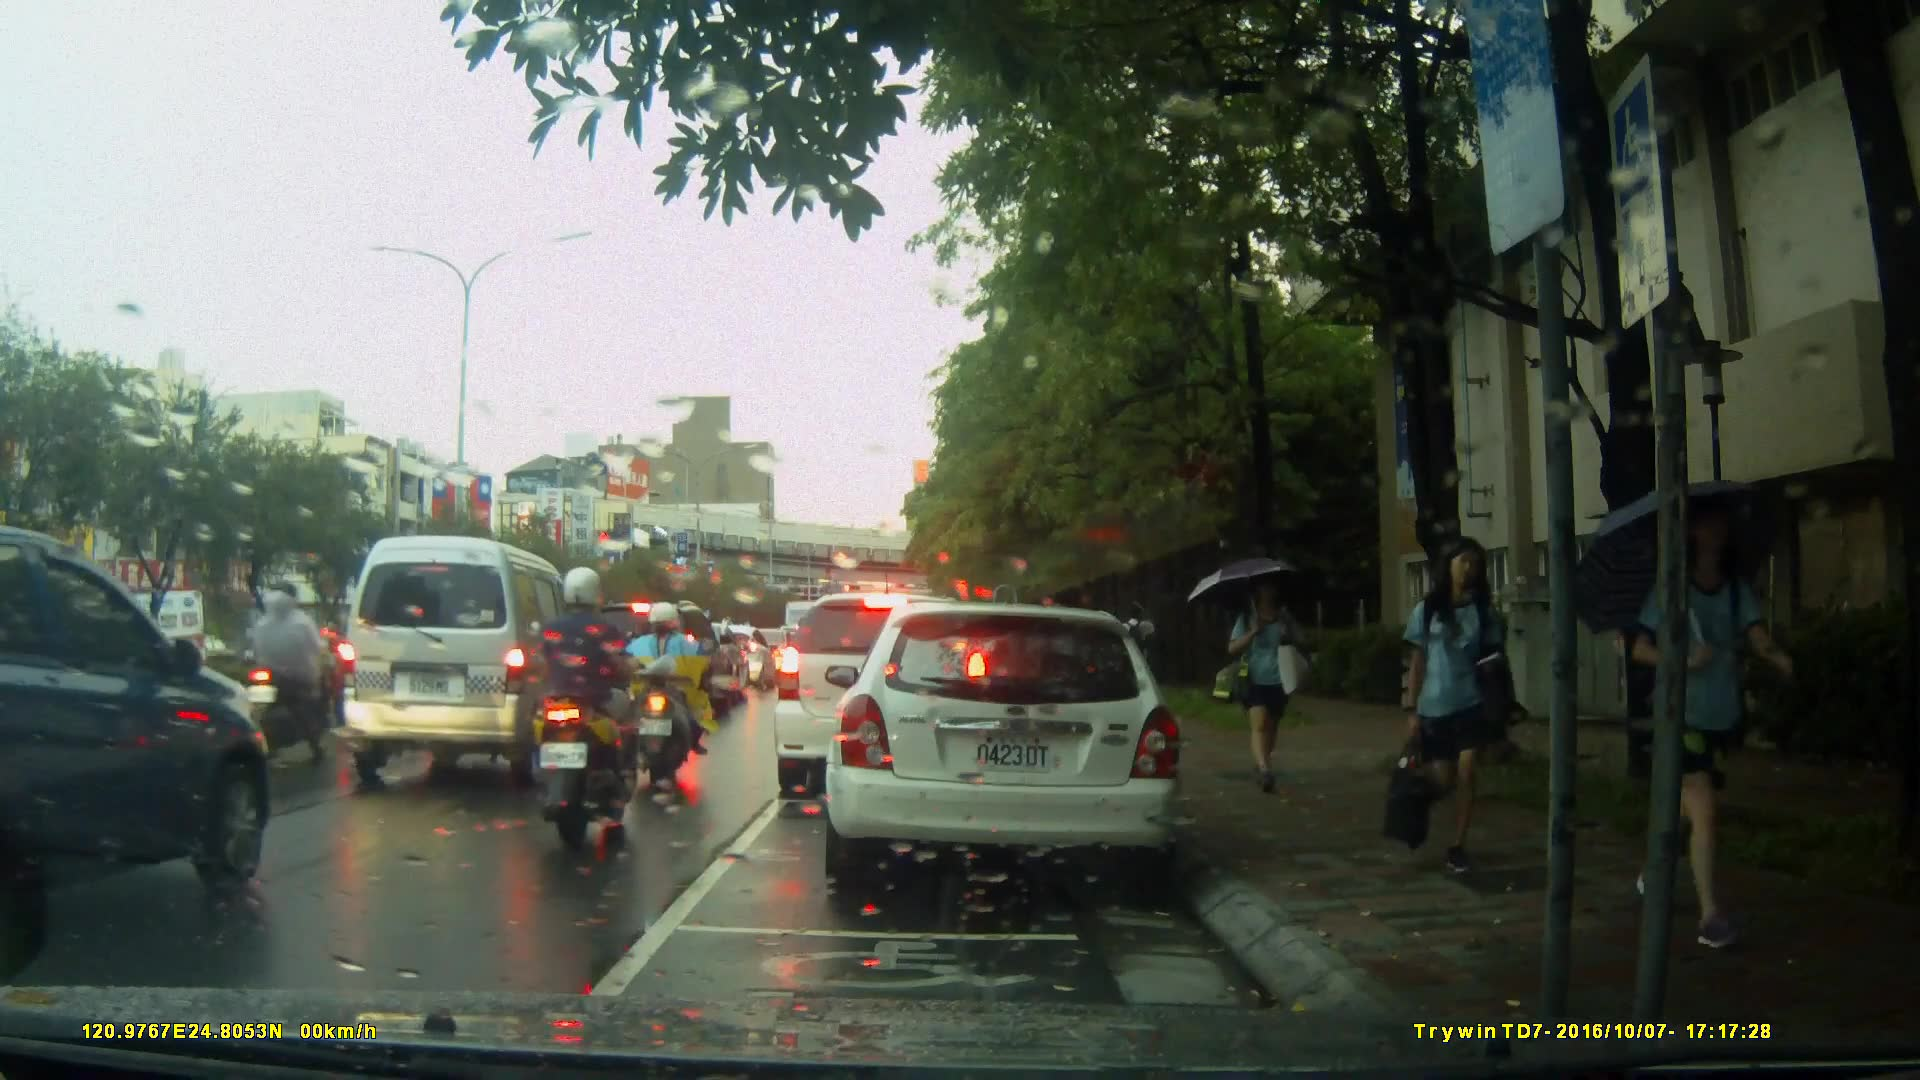pedestrian: (1630, 487, 1792, 956), (1394, 528, 1514, 898), (1409, 554, 1501, 816), (1216, 565, 1311, 798)
rider: (548, 566, 650, 839), (242, 569, 340, 764), (619, 601, 711, 786)
vehicle: (815, 593, 1204, 909), (4, 524, 277, 959), (337, 534, 584, 790), (770, 590, 994, 802), (580, 603, 737, 725)
